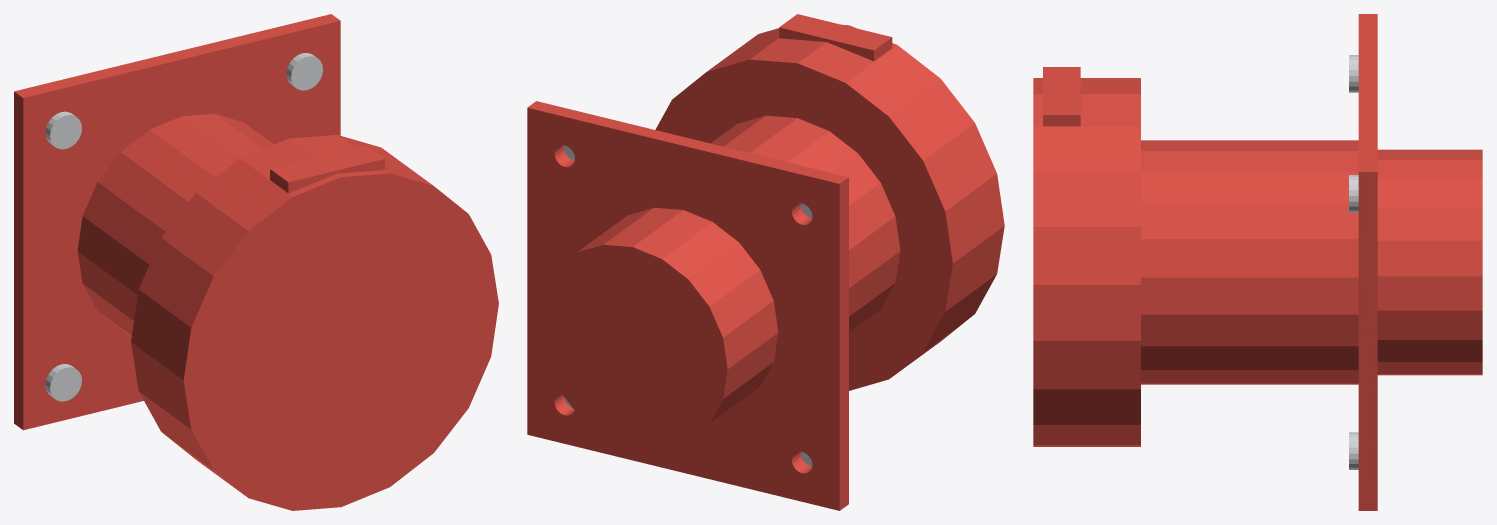
File: port-pwr-480.glb
The picture shows the model from 3 angles, left to right: view 1: azimuth 30°, elevation 25°; view 2: azimuth 150°, elevation 25°; view 3: azimuth 270°, elevation 25°; orthographic projection. The views are drawn at different scales.
Visible parts, largest first — view 1: cap, body; view 2: body, cap; view 3: body, cap.
Boxes of the visible parts, bbox=[...] form: cap: bbox=[131, 135, 498, 510]; body: bbox=[14, 14, 340, 430]; body: bbox=[527, 101, 900, 510]; cap: bbox=[655, 14, 1004, 390]; body: bbox=[1141, 14, 1482, 510]; cap: bbox=[1033, 67, 1140, 446].
Size of what is drawn, in the model's own units: 0.079 by 0.0795 by 0.0949.
